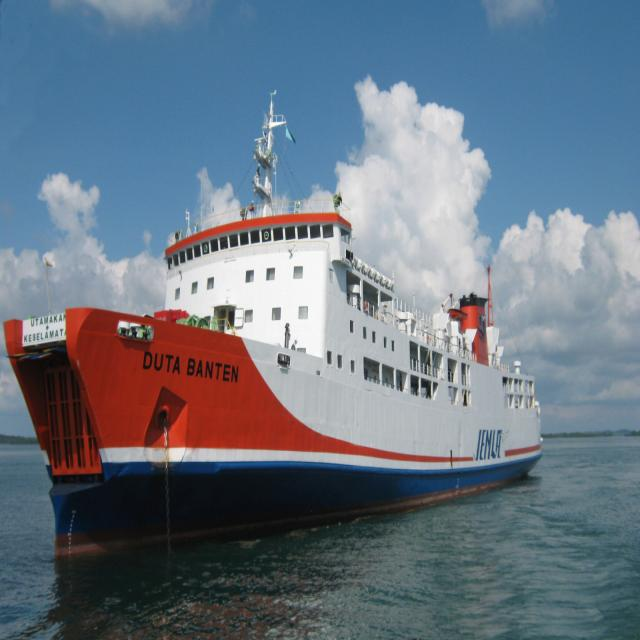PassengerShip: (6, 138, 603, 578)
